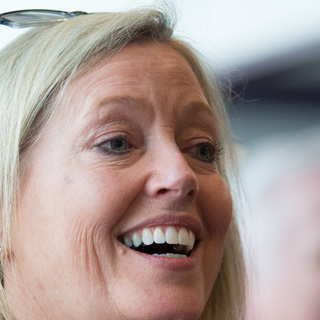eye: (90, 131, 139, 159), (183, 138, 223, 166)
